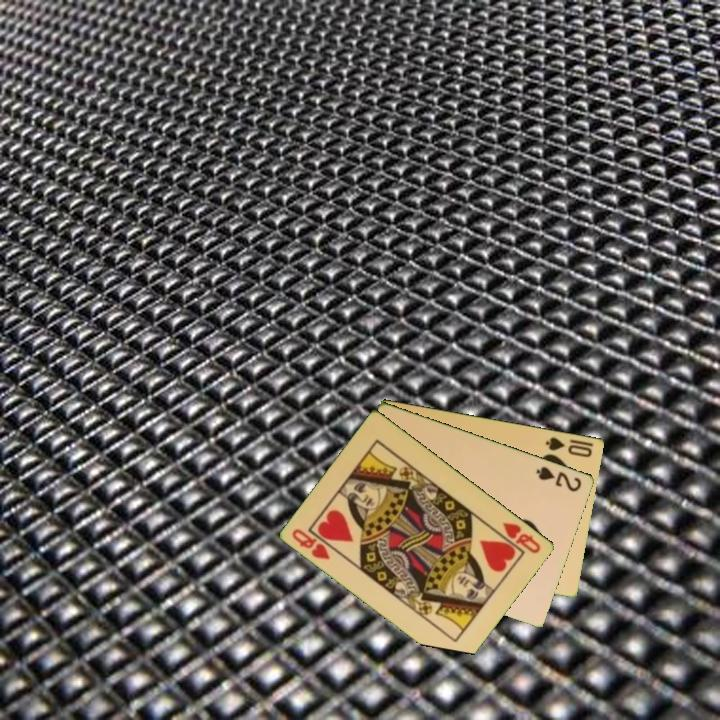10s: (542, 433, 596, 460)
2s: (533, 463, 585, 494)
Qh: (499, 518, 544, 556), (289, 525, 333, 563)
